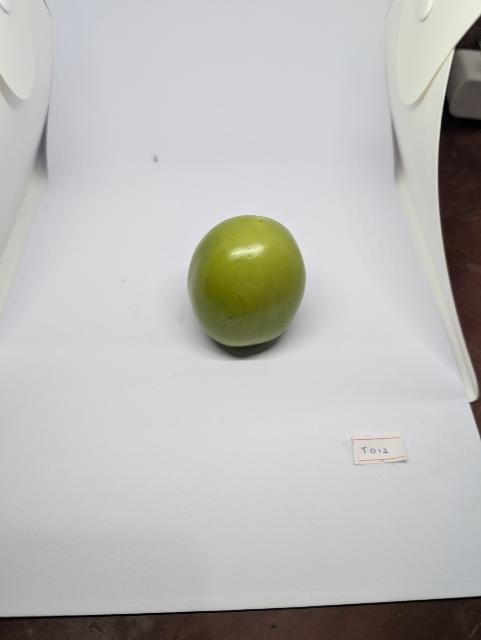green: (184, 211, 311, 352)
